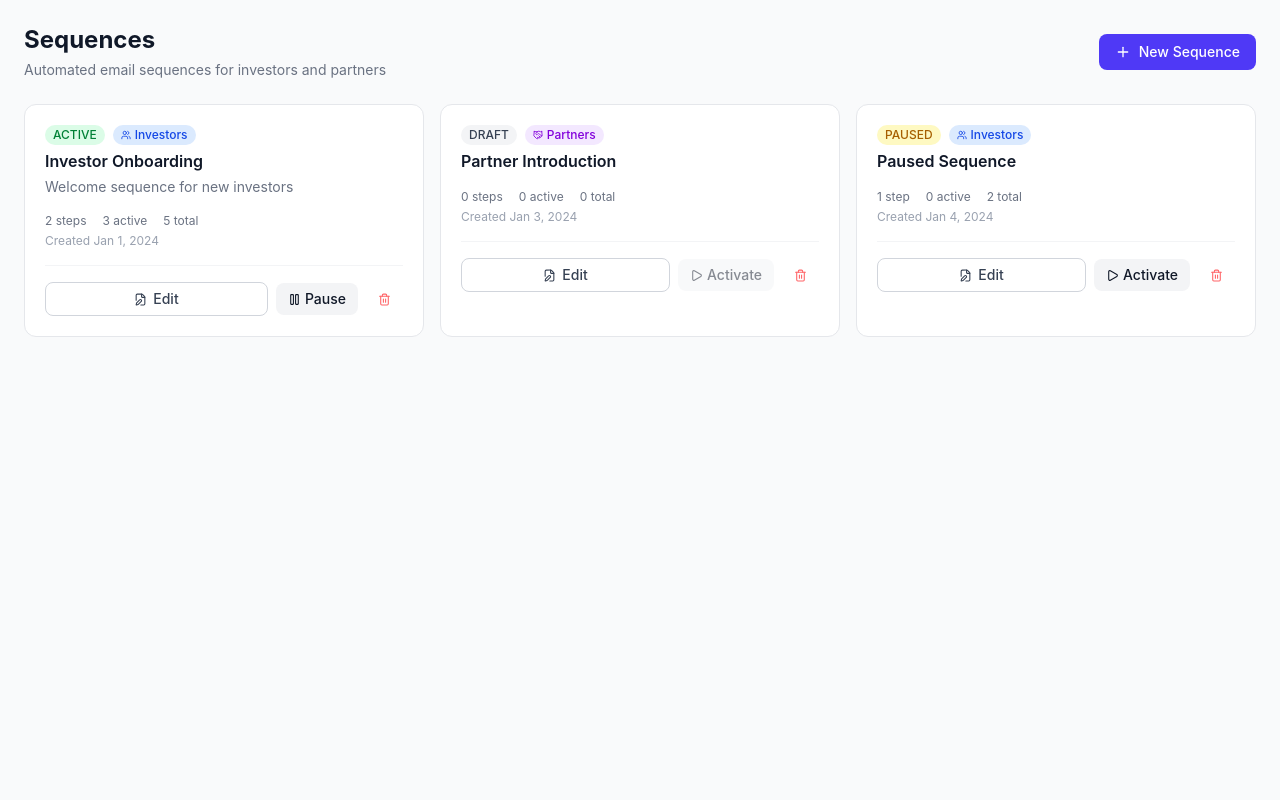
Test: SequencesPage › creates a new sequence successfully
Expected: the heading "Investor Onboarding" is shown, [45,151,203,171]
Click the button "New Sequence": (1177, 52) [1099,34,1256,70]
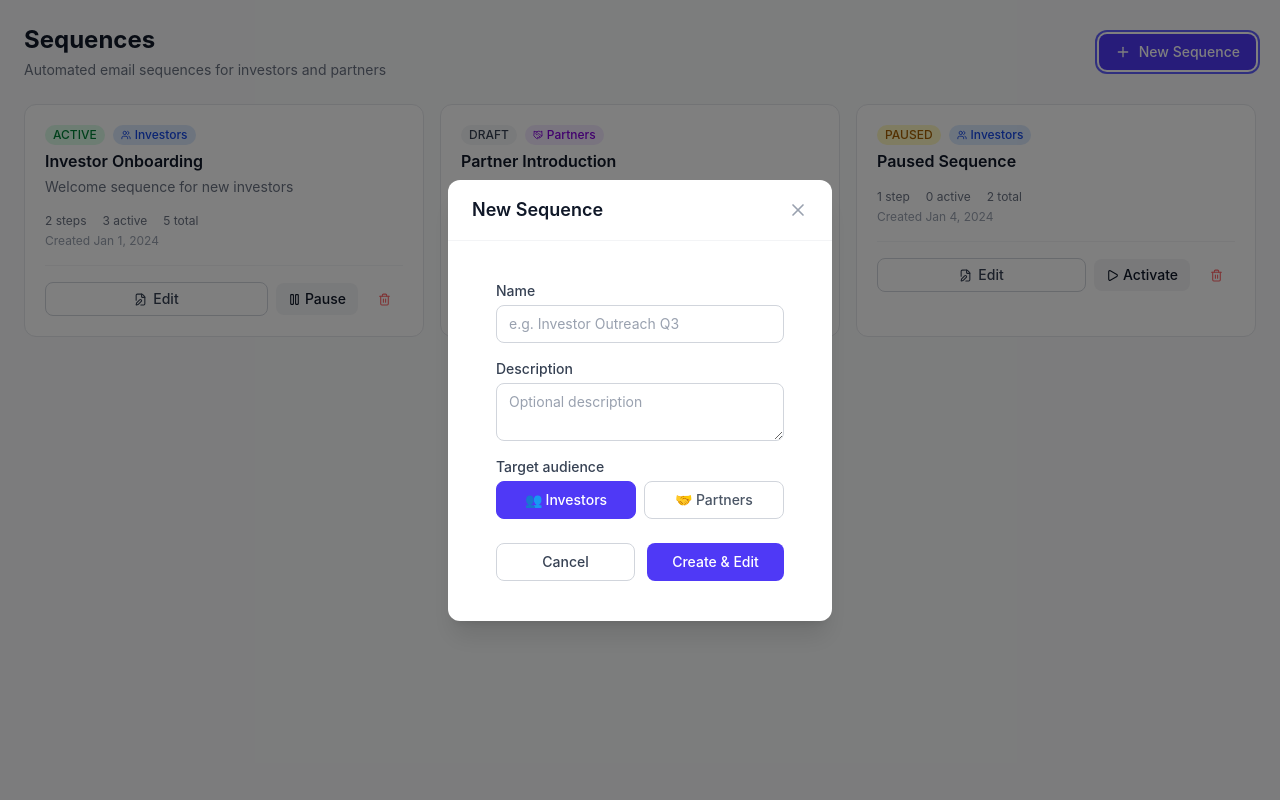
Expected: the dialog is shown, [448,180,832,620]
In the field labelled "Name": (640, 324) [496,304,784,342], type "My New Sequence"
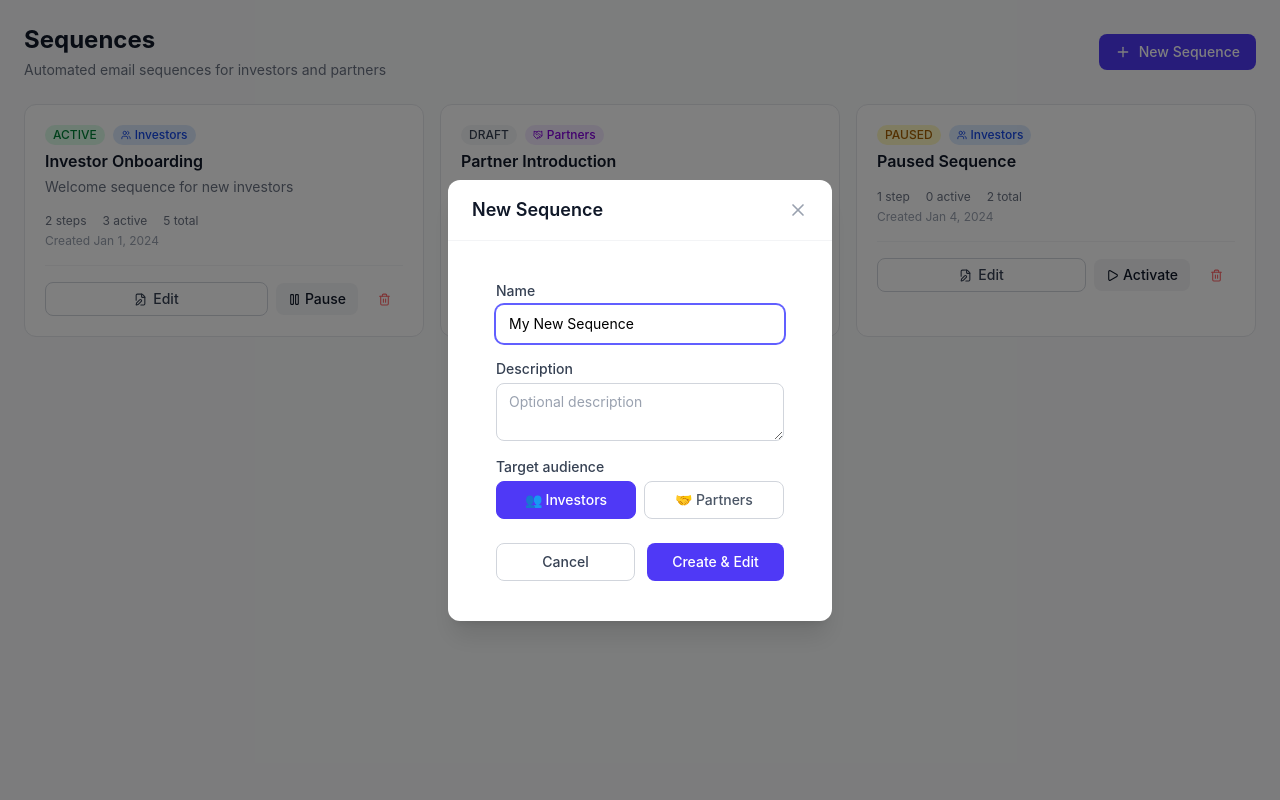
Click the button "Create & Edit": (716, 562) [647,542,784,580]
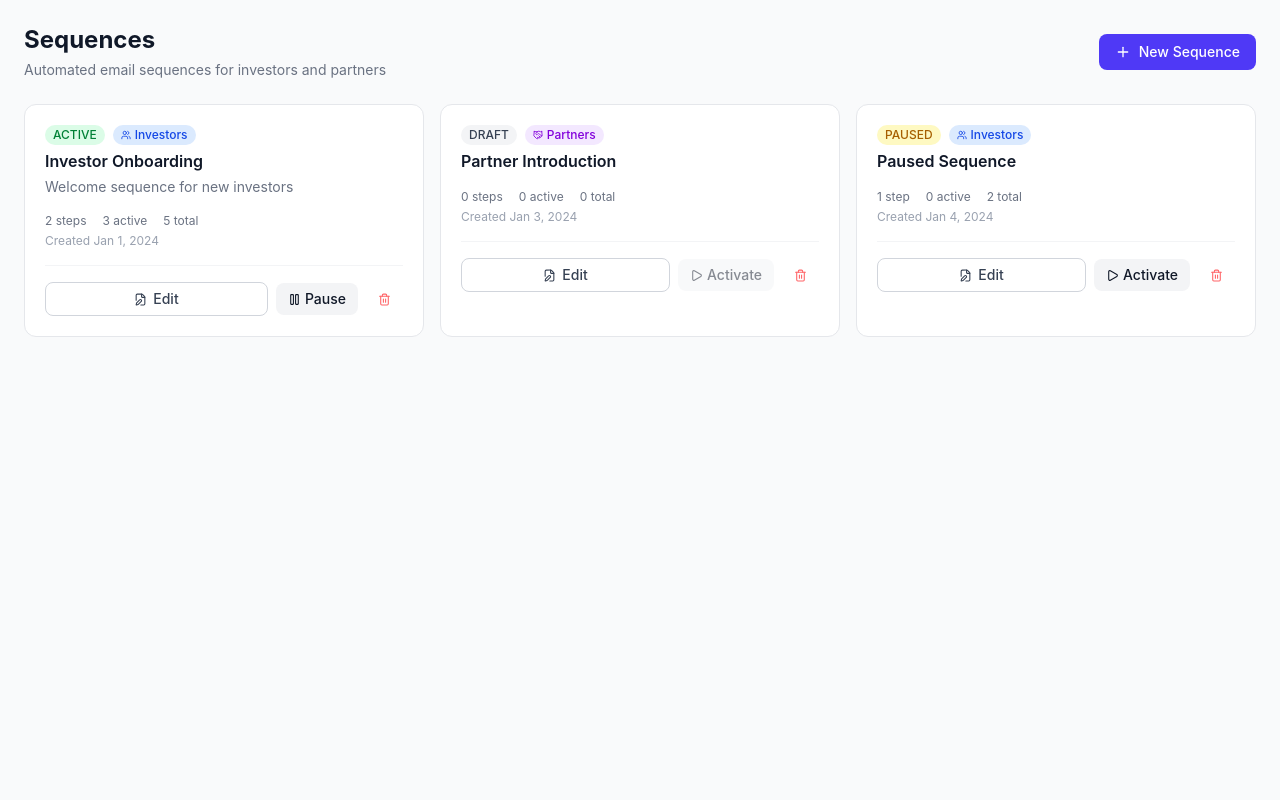
Expected: the dialog is gone
